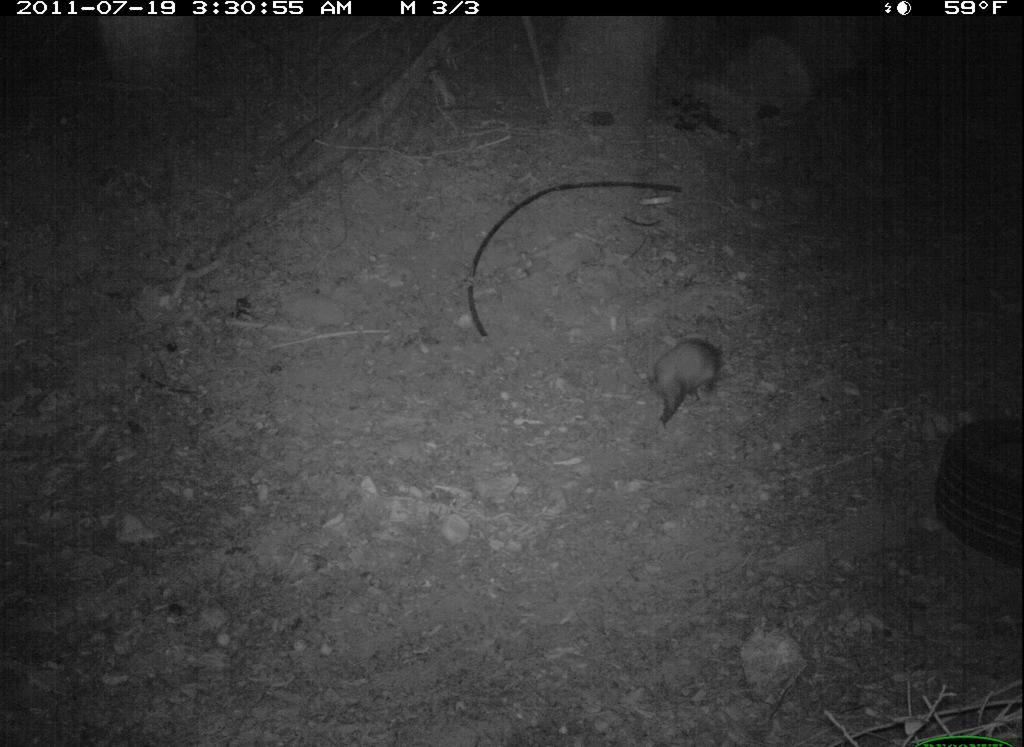opossum: (634, 337, 742, 425)
